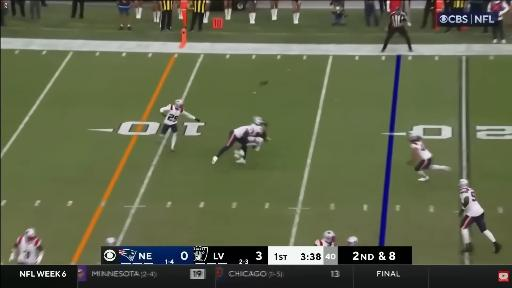Helmet: (25, 228, 37, 241), (324, 231, 335, 244), (253, 116, 265, 125), (347, 237, 358, 246), (408, 134, 421, 141), (255, 125, 262, 137), (106, 238, 116, 246), (175, 100, 183, 108), (459, 180, 468, 187)
Jersey: (160, 105, 194, 125), (17, 236, 41, 264), (460, 187, 483, 216), (234, 124, 263, 138), (411, 142, 432, 159), (315, 239, 334, 246)
Player: (459, 180, 501, 253), (212, 117, 265, 163), (160, 100, 200, 151), (408, 135, 451, 181), (9, 228, 43, 264), (248, 126, 270, 151), (314, 230, 336, 247), (105, 237, 116, 246), (347, 237, 358, 246)
